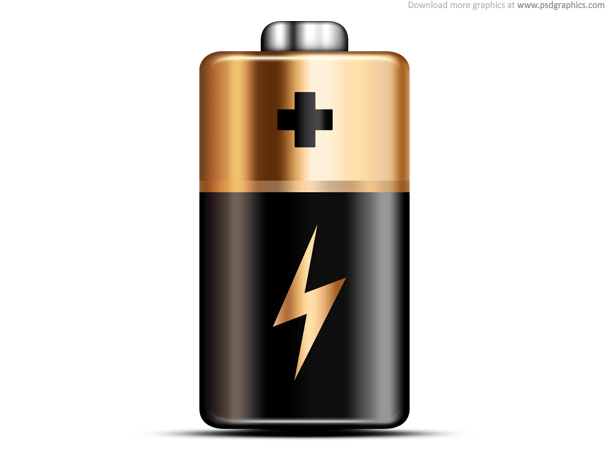charging sign: (166, 8, 438, 425)
